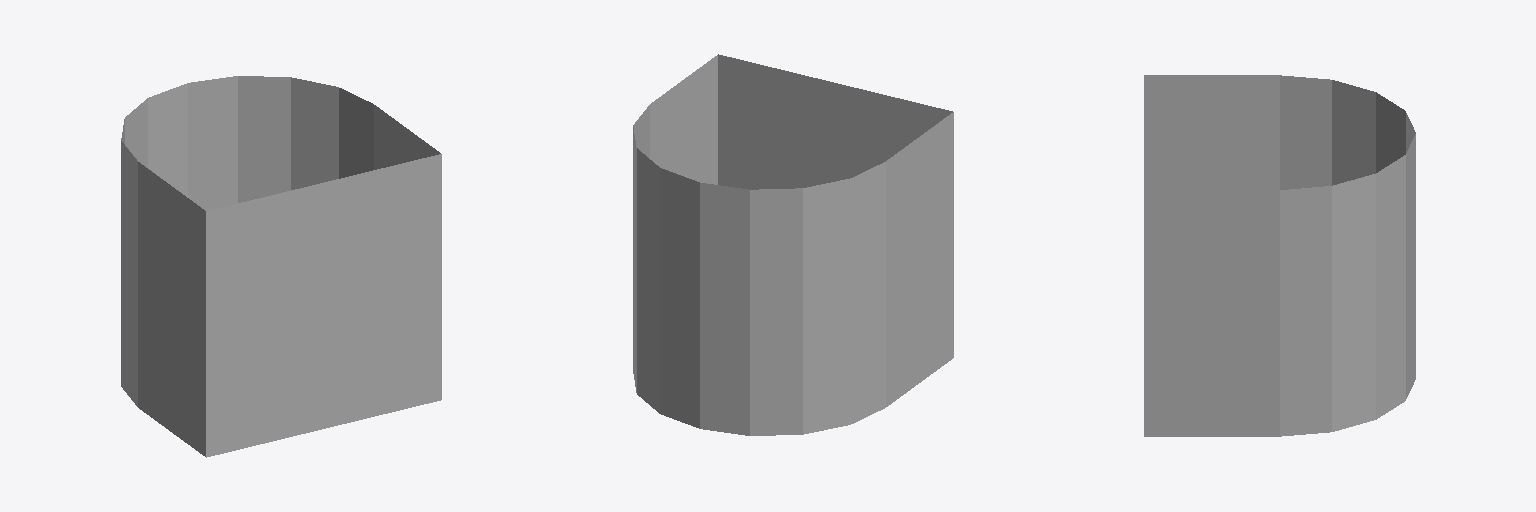
The model's file is col_round_three_faces.obj.
The picture shows the model from 3 angles: view 1: azimuth 30°, elevation 25°; view 2: azimuth 150°, elevation 25°; view 3: azimuth 270°, elevation 25°; orthographic projection.
Visible parts, largest first — view 1: Box, Cylinder; view 2: Cylinder, Box; view 3: Box, Cylinder.
Boxes of the visible parts, <box> form: Box: <box>138,105,441,457</box>; Cylinder: <box>121,76,373,406</box>; Cylinder: <box>633,105,885,435</box>; Box: <box>650,54,953,406</box>; Box: <box>1144,75,1279,436</box>; Cylinder: <box>1280,75,1415,436</box>.
Bounding box in the file's own units: 1 × 1 × 1.